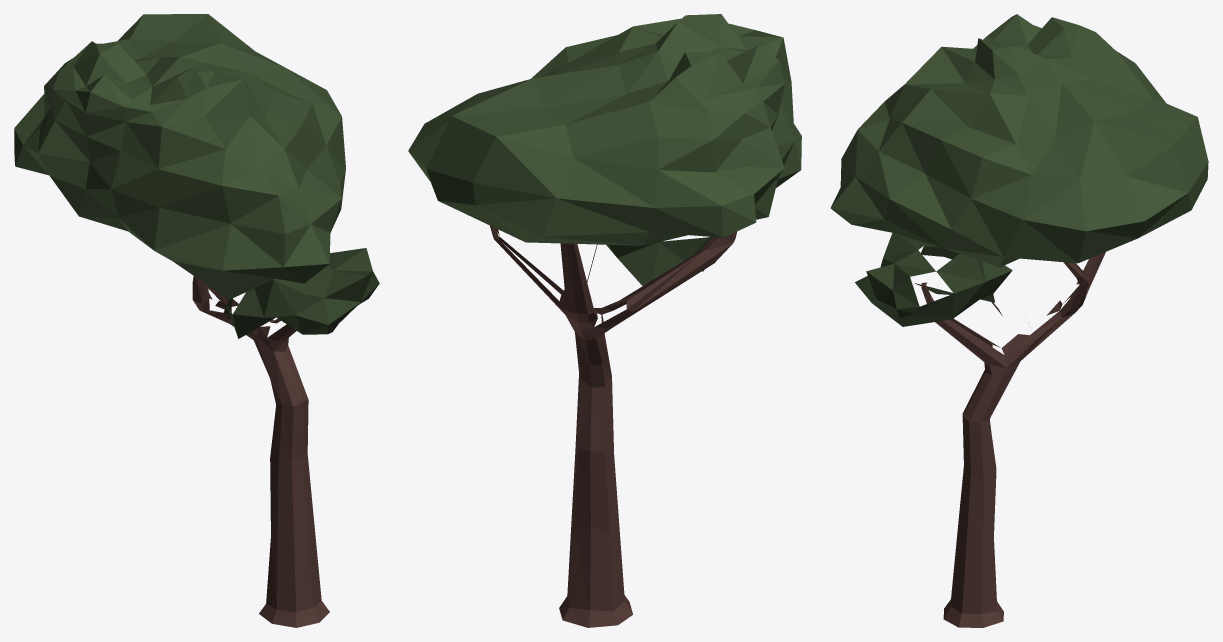
Rendered from CommonTree_4.glb.
3 renders of one model, left to right at view 1: azimuth 30°, elevation 25°; view 2: azimuth 150°, elevation 25°; view 3: azimuth 270°, elevation 25°, orthographic. The views are drawn at different scales.
Parts seen in each view (by area): view 1: CommonTree_4_Cube.001; view 2: CommonTree_4_Cube.001; view 3: CommonTree_4_Cube.001.
Boxes of the visible parts, bbox=[...] form: CommonTree_4_Cube.001: bbox=[14, 14, 379, 627]; CommonTree_4_Cube.001: bbox=[408, 14, 801, 627]; CommonTree_4_Cube.001: bbox=[830, 14, 1208, 627].
Size of the model in its own units: 1.57 by 2.78 by 1.8.
